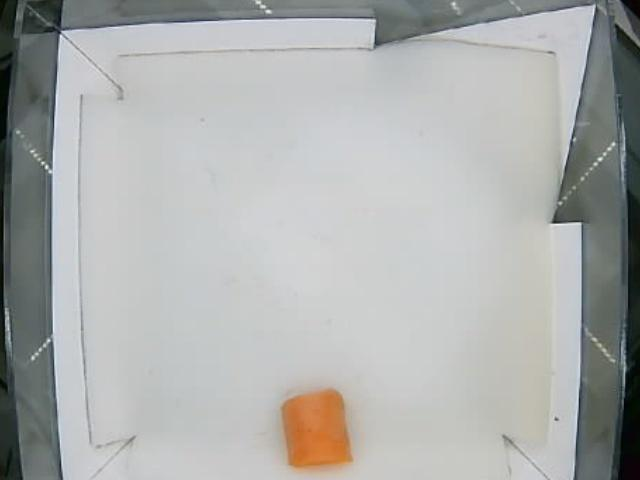Carrot: (279, 388, 353, 467)
